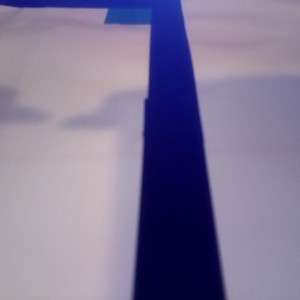bottom_left: (104, 1, 180, 25)
